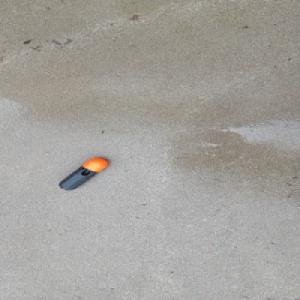PlasticPart: (57, 157, 108, 191)
